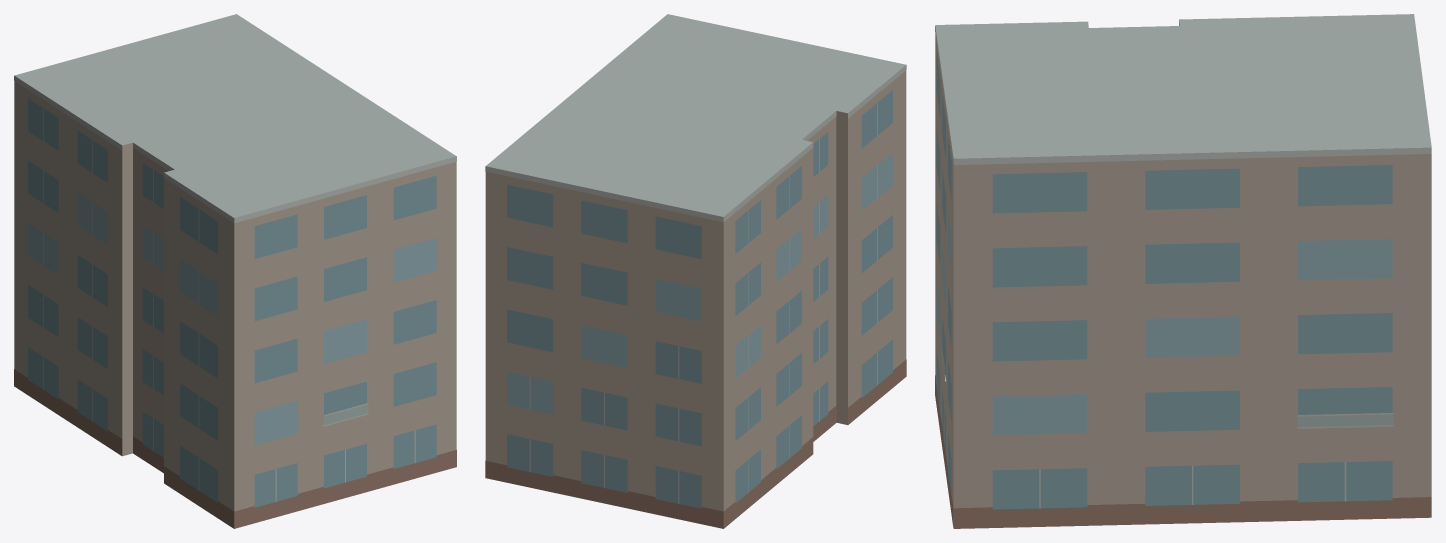
The model's file is survey-upis-32991769.glb.
The picture shows the model from 3 angles, left to right: view 1: azimuth 30°, elevation 25°; view 2: azimuth 150°, elevation 25°; view 3: azimuth 270°, elevation 25°; orthographic projection. The views are drawn at different scales.
Visible parts, largest first — view 1: survey-upis-32991769.tmp; view 2: survey-upis-32991769.tmp; view 3: survey-upis-32991769.tmp.
Part boxes in pixels (x1=…): survey-upis-32991769.tmp: x1=14, y1=14, x2=456, y2=528; survey-upis-32991769.tmp: x1=485, y1=14, x2=906, y2=528; survey-upis-32991769.tmp: x1=935, y1=14, x2=1431, y2=528.
Bounding box in the file's own units: 12.01 × 14.3 × 17.4.
